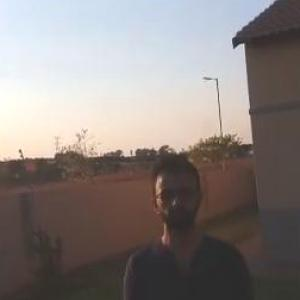follow: (117, 149, 262, 299)
